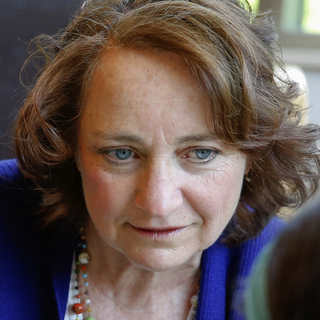eye: (97, 142, 144, 167), (177, 141, 224, 166)
